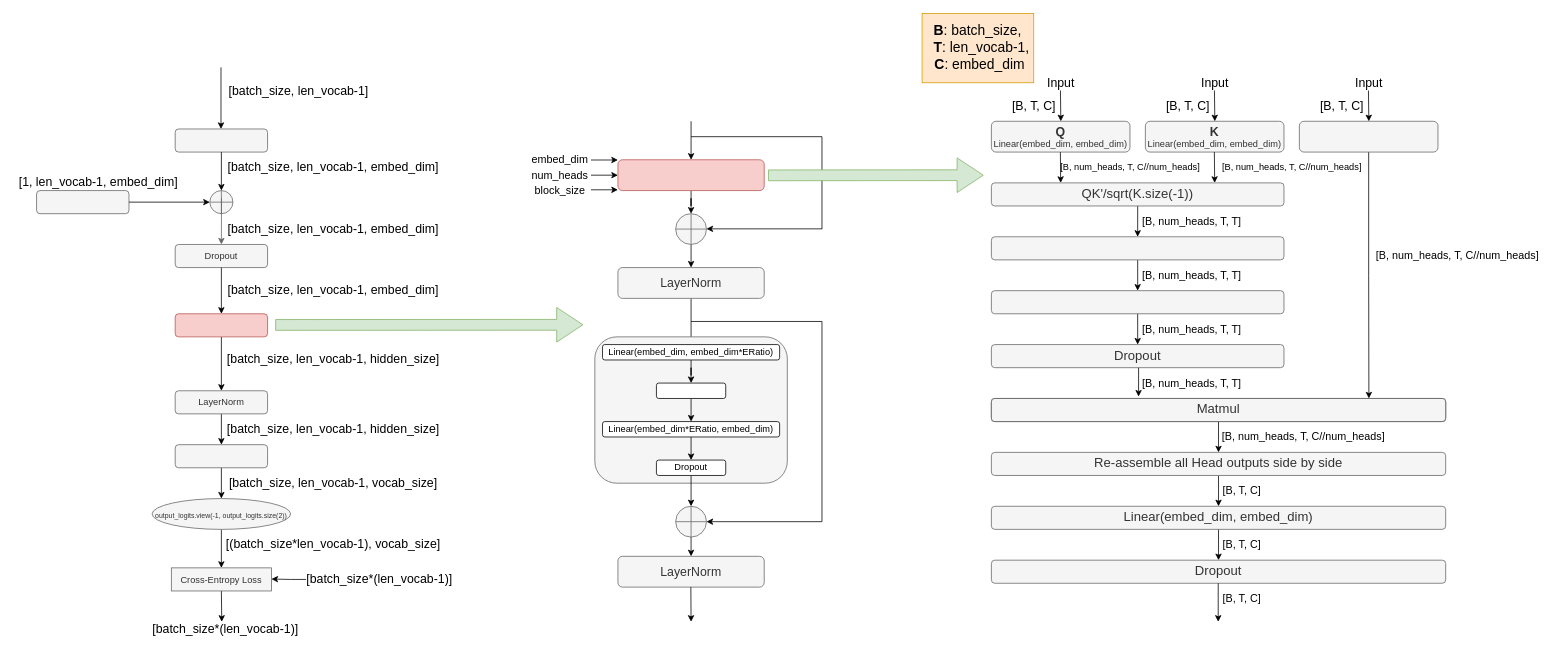
This 1558x651 diagram has some shape labels left out. Each missing label, with the box of its shape:
Embedding: (174, 128, 268, 152)
GELU: (656, 382, 726, 398)
Linear: (174, 444, 268, 468)
Masked_fill: (991, 236, 1284, 260)
Multi-head Attention: (617, 159, 764, 191)
N x Decoders: (174, 313, 268, 337)
Position Embeddings: (36, 190, 129, 214)
Softmax: (991, 290, 1284, 314)
V Linear(embed_dim, embed_dim): (1299, 121, 1438, 152)
